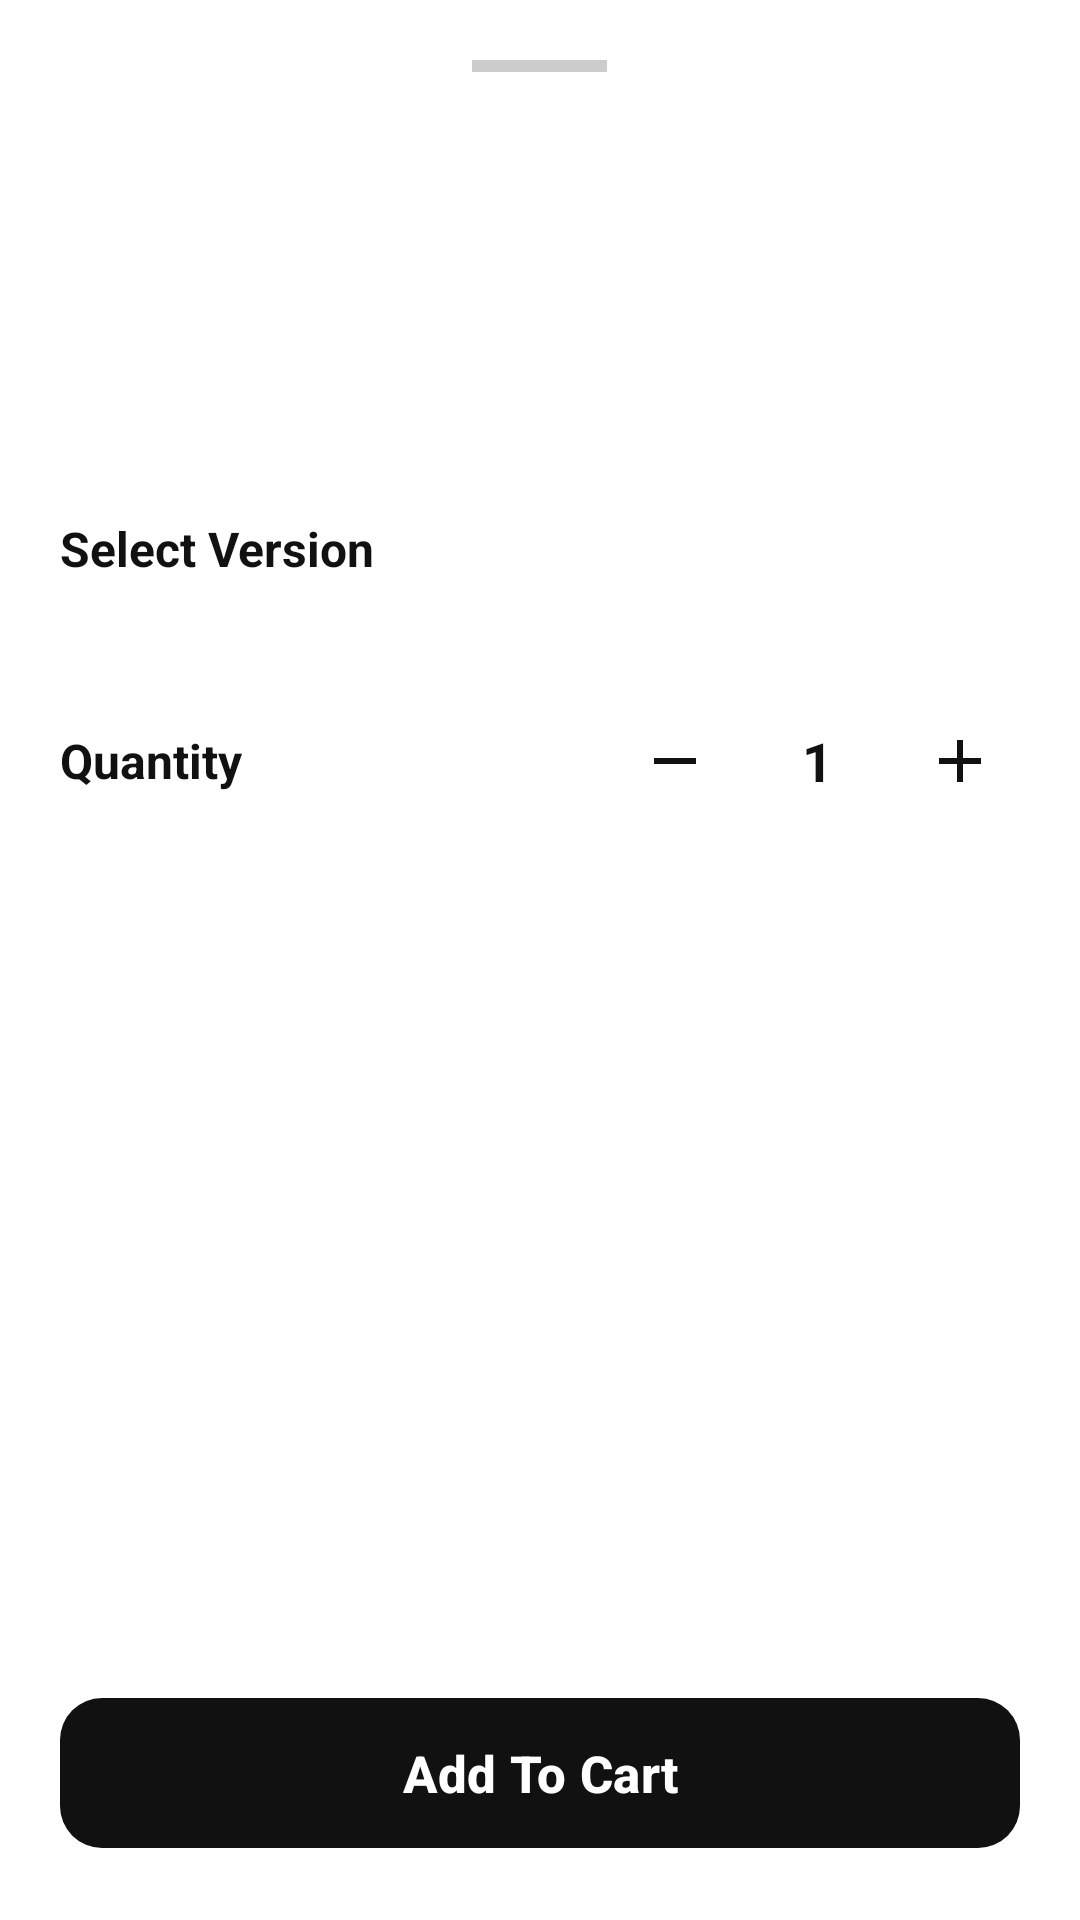

Screen size 1080px×1920px. Icon name, then its box in pixels as {"x1": x1, "y1": y1, "x2": x2, "y2": y2}:
plus: {"x1": 939, "y1": 740, "x2": 981, "y2": 782}
